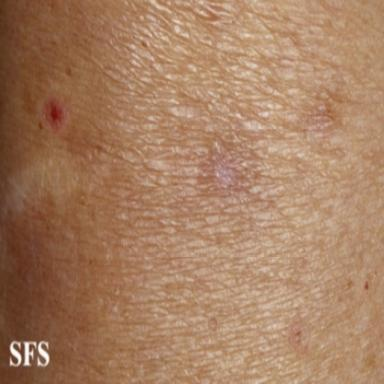Porokeratosis: (301, 101, 343, 132), (213, 141, 239, 189), (43, 97, 67, 133), (288, 318, 309, 353)
